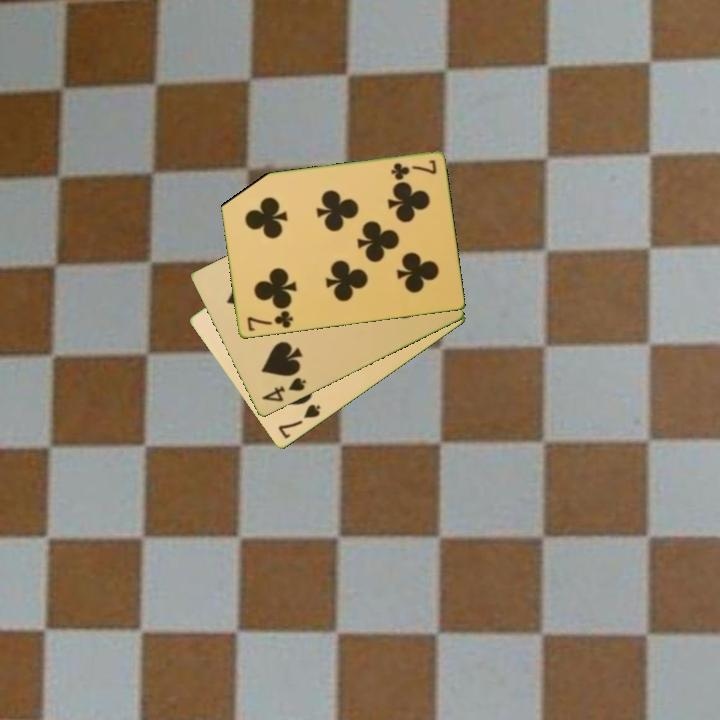4s: (258, 374, 309, 405)
7c: (243, 307, 296, 334), (387, 157, 439, 182)
7s: (274, 401, 324, 442)
